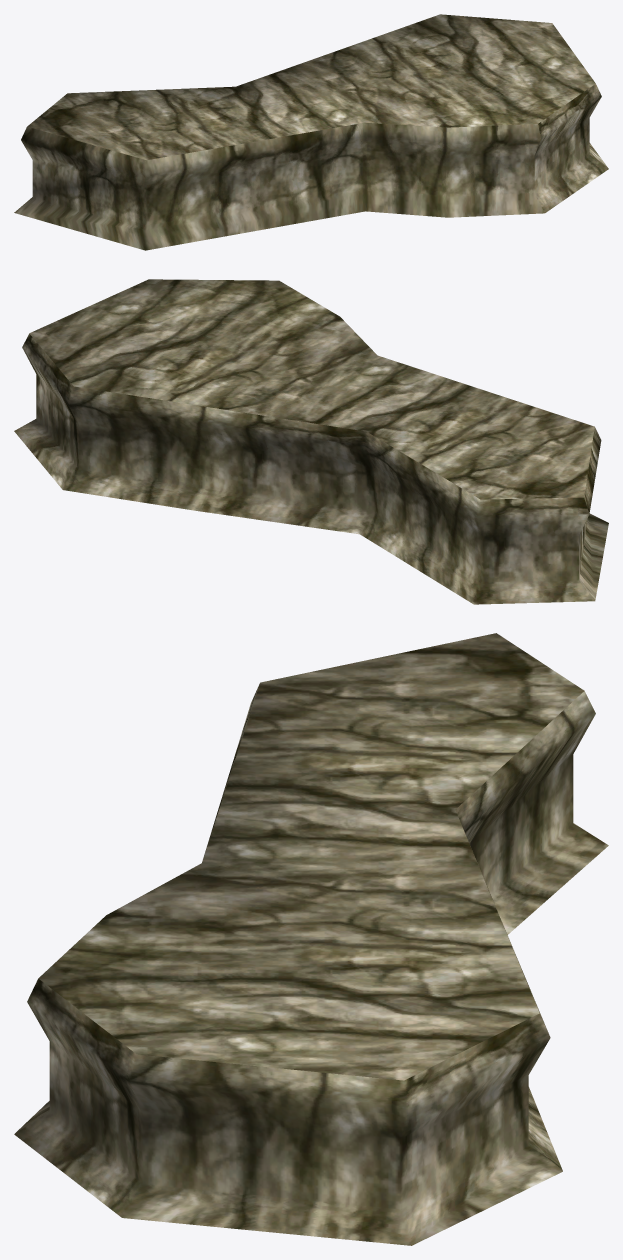
Rendered from CB_NEWPLAYSURFACE_CB_PLAYSURFACE128.fbx.
The picture shows the model from 3 angles, top to bottom: view 1: azimuth 30°, elevation 25°; view 2: azimuth 150°, elevation 25°; view 3: azimuth 270°, elevation 25°; orthographic projection. The views are drawn at different scales.
Parts seen in each view (by area): view 1: CB_NEWPLAYSURFACE_CB_PLAYSURFACE128; view 2: CB_NEWPLAYSURFACE_CB_PLAYSURFACE128; view 3: CB_NEWPLAYSURFACE_CB_PLAYSURFACE128.
Part boxes in pixels (x1,y1,x2,y2): CB_NEWPLAYSURFACE_CB_PLAYSURFACE128: (14,14,608,250); CB_NEWPLAYSURFACE_CB_PLAYSURFACE128: (14,279,608,604); CB_NEWPLAYSURFACE_CB_PLAYSURFACE128: (14,633,608,1245).
Bounding box in the file's own units: 185865 × 28823 × 99981.
Materials: 2 (2 with a texture image).
